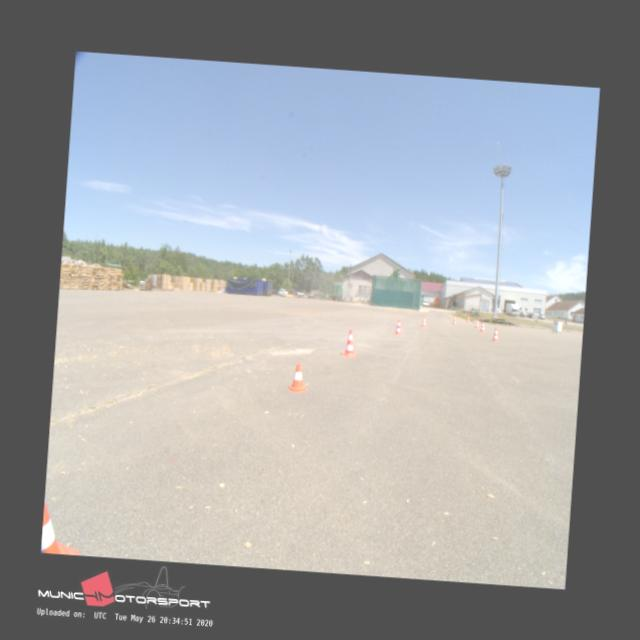large_orange_cone: (342, 330, 356, 356), (490, 326, 500, 341), (393, 319, 402, 335), (421, 315, 426, 326), (480, 321, 485, 332), (474, 318, 479, 328), (452, 316, 456, 324), (466, 314, 470, 322)
orange_cone: (288, 362, 308, 392)
